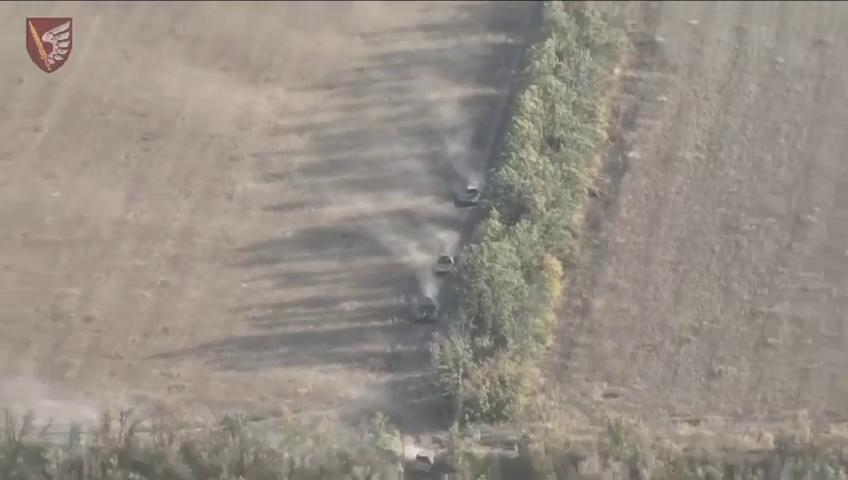tank: (413, 451, 444, 480), (413, 294, 440, 327), (456, 180, 482, 211), (434, 249, 457, 277)
